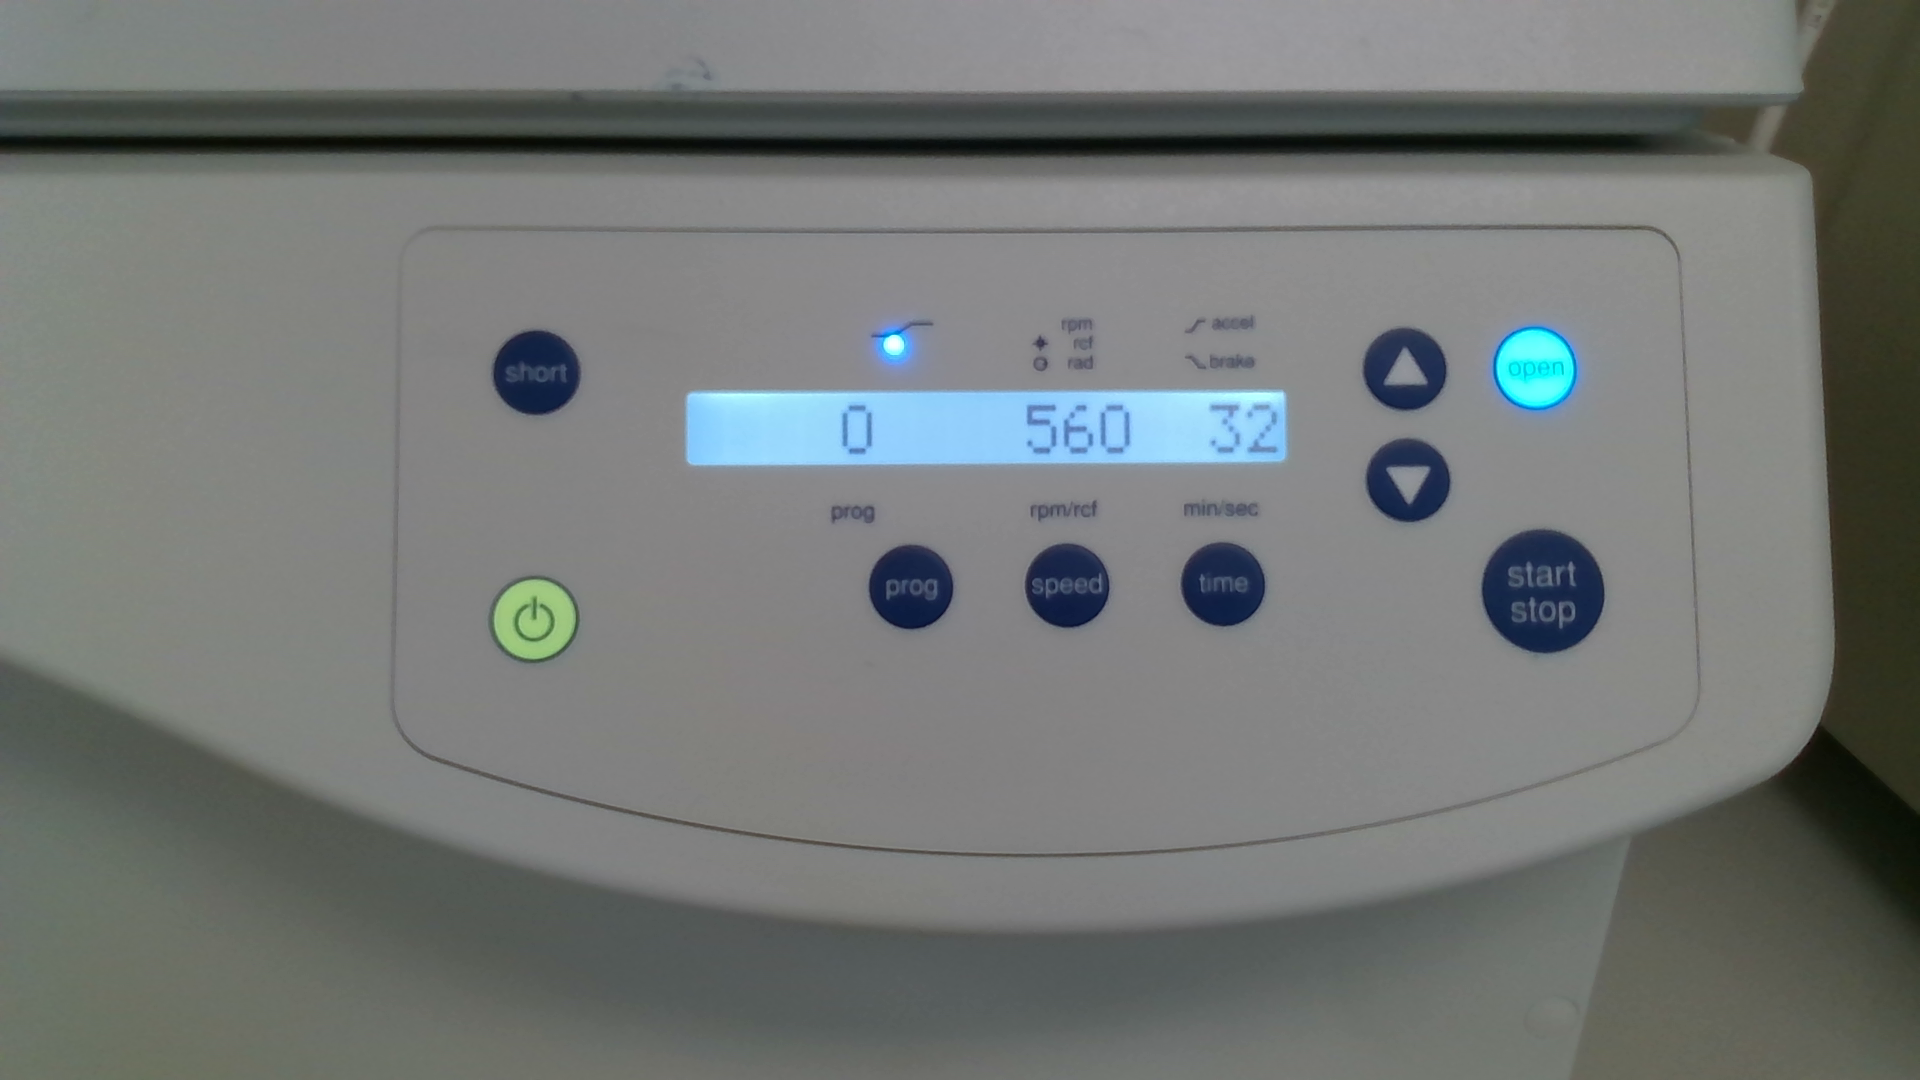0: (1101, 405, 1130, 454), (843, 406, 872, 454)
2: (1247, 405, 1278, 452)
3: (1211, 404, 1240, 454)
5: (1027, 405, 1056, 454)
6: (1064, 405, 1093, 454)
open_on: (1491, 324, 1578, 411)
power_on: (487, 574, 580, 665)
